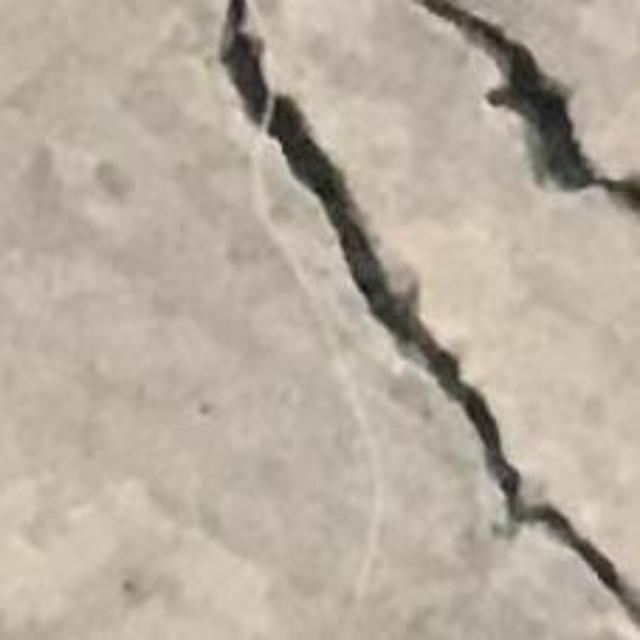crack: (220, 0, 639, 625)
